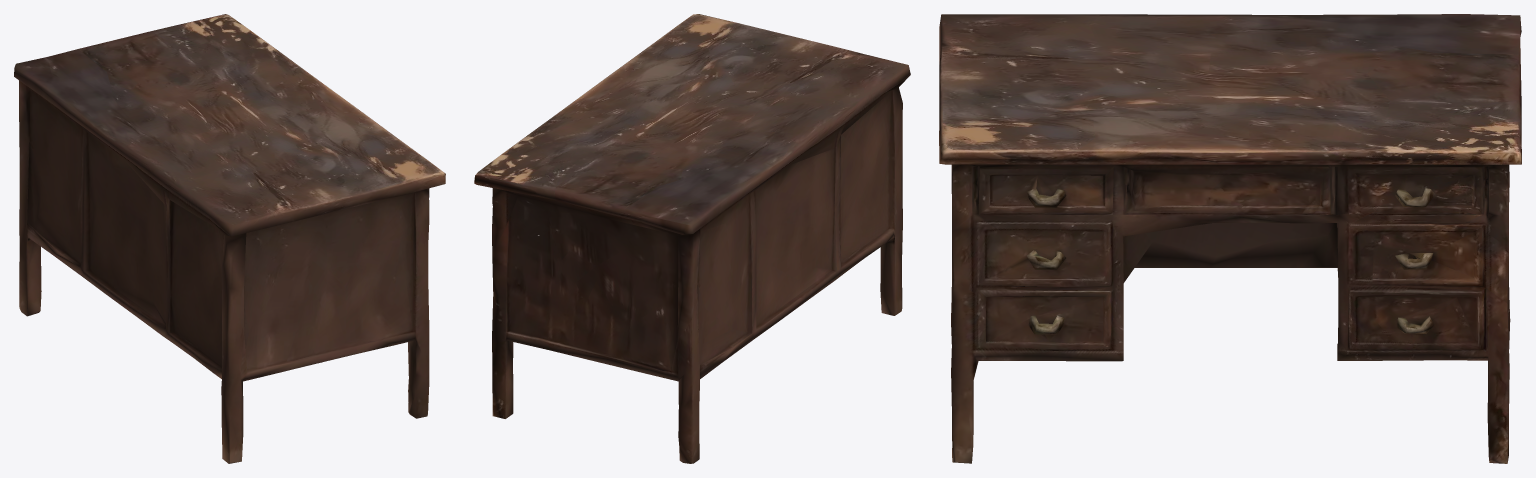
Rendered from teacher-desk.glb.
3 renders of one model, left to right at view 1: azimuth 30°, elevation 25°; view 2: azimuth 150°, elevation 25°; view 3: azimuth 270°, elevation 25°, orthographic. The views are drawn at different scales.
Parts seen in each view (by area): view 1: tripo_node_e0d1f836-6193-44f0-9be9-e36dd6a6cad8; view 2: tripo_node_e0d1f836-6193-44f0-9be9-e36dd6a6cad8; view 3: tripo_node_e0d1f836-6193-44f0-9be9-e36dd6a6cad8.
Boxes of the visible parts, x1,y1,x2,y2 form: tripo_node_e0d1f836-6193-44f0-9be9-e36dd6a6cad8: (14,14,445,463); tripo_node_e0d1f836-6193-44f0-9be9-e36dd6a6cad8: (474,14,910,463); tripo_node_e0d1f836-6193-44f0-9be9-e36dd6a6cad8: (939,14,1521,463).
Size of the model in its own units: 0.5653 by 0.6095 by 1.
1 material, 1 textured.
